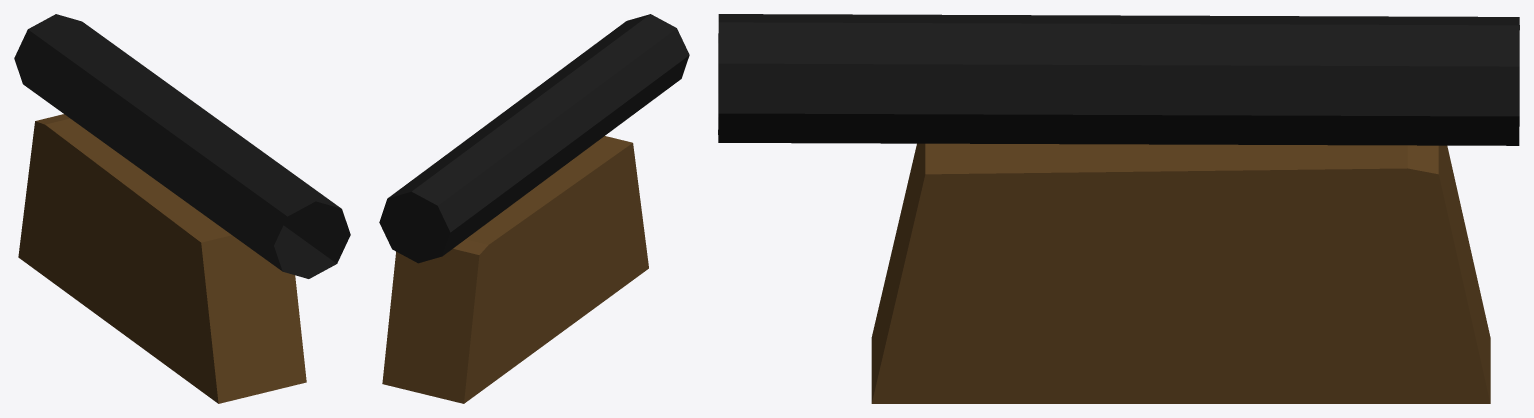
The model's file is top.glb.
3 views of the same model, side by side, from view 1: azimuth 30°, elevation 25°; view 2: azimuth 150°, elevation 25°; view 3: azimuth 270°, elevation 25° (orthographic). The views are drawn at different scales.
Visible parts, largest first — view 1: Cube, Cylinder; view 2: Cube, Cylinder; view 3: Cube, Cylinder.
Part boxes in pixels (box(x1,y1,x2,y2)): Cube: box(18, 114, 306, 403); Cylinder: box(14, 14, 350, 278); Cube: box(382, 136, 648, 403); Cylinder: box(379, 14, 689, 263); Cube: box(871, 143, 1490, 403); Cylinder: box(718, 14, 1519, 145).
Size of the model in its own units: 0.4587 by 1.13 by 2.34.
